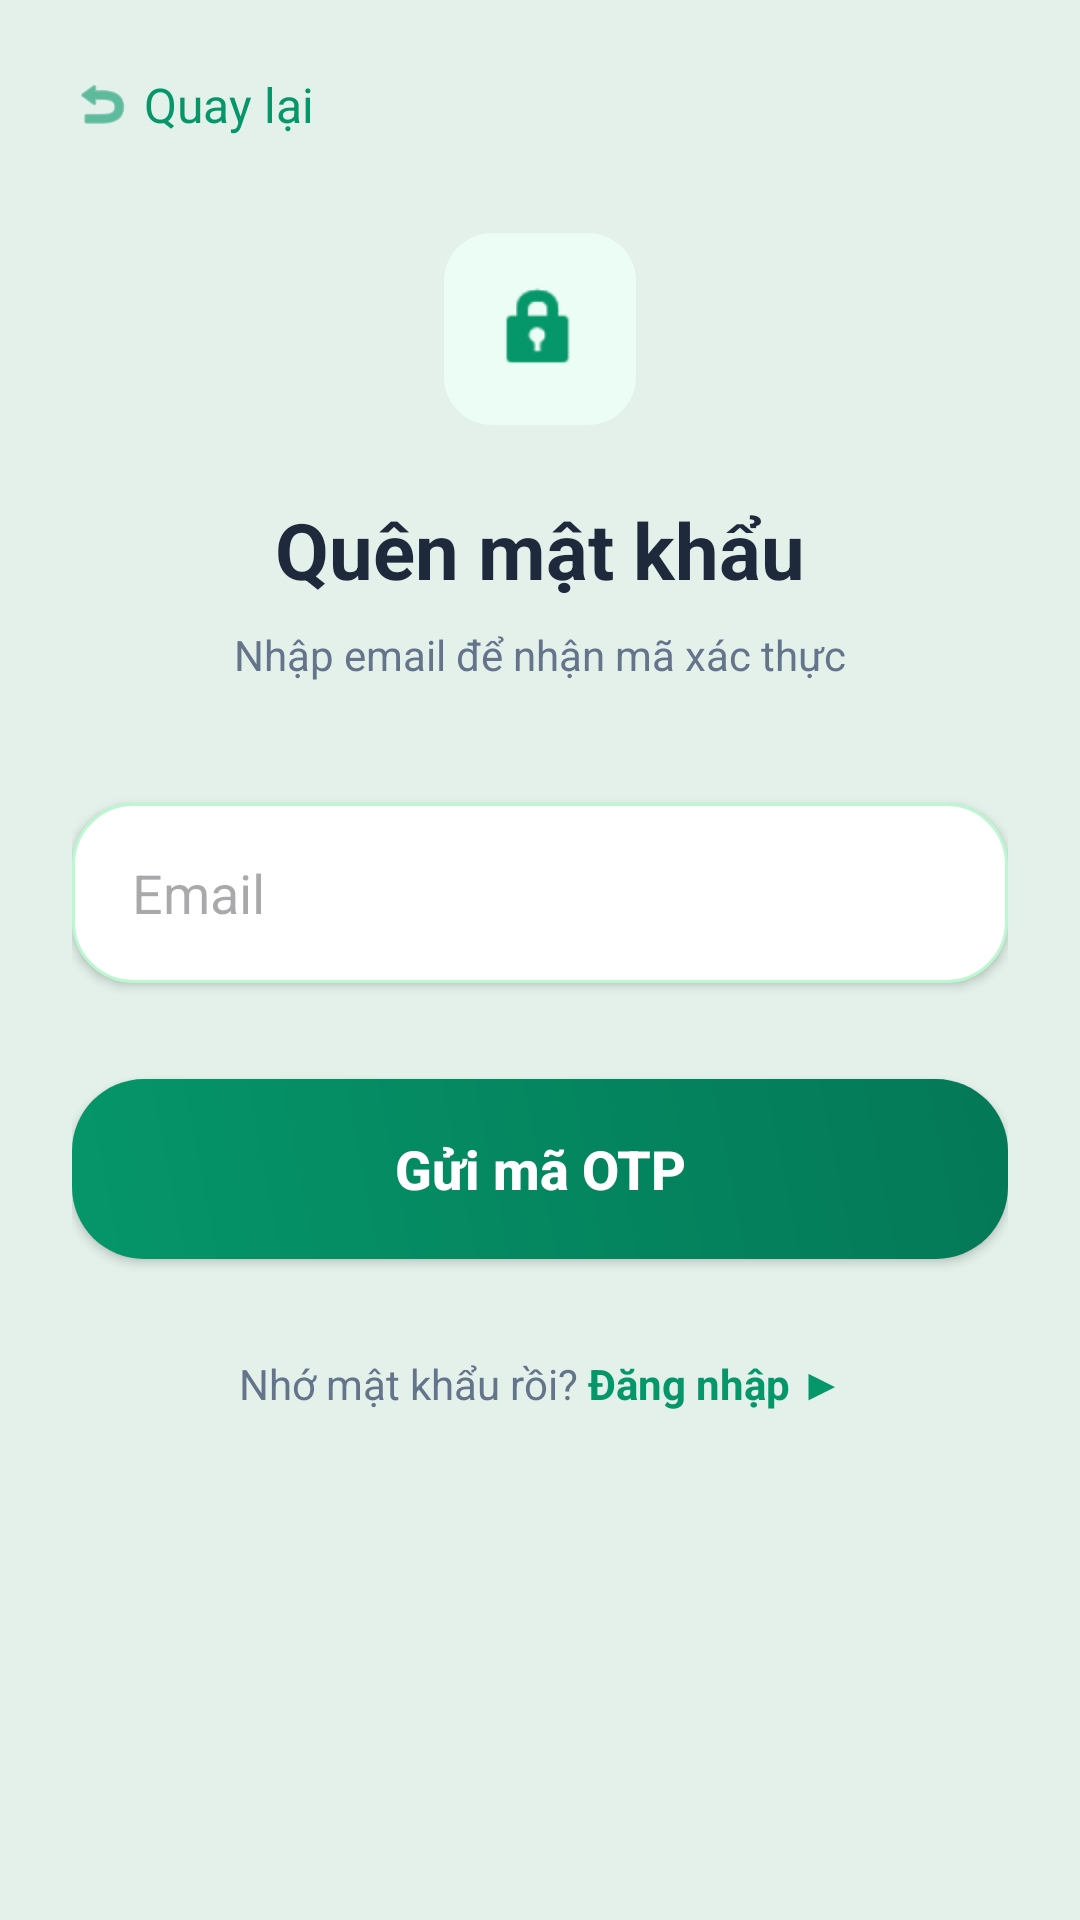

Icons on this 1080 x 1920 Android screen, each with its box as (x1, y1, x2, y2):
revert: (81, 85, 124, 124)
